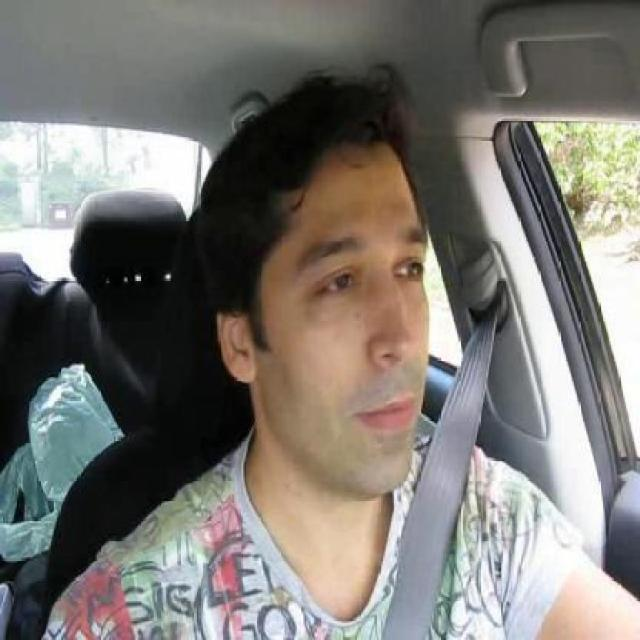awake: (319, 266, 353, 297), (394, 256, 424, 282)
